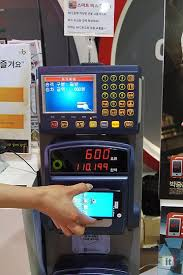terminal: (43, 142, 138, 234)
